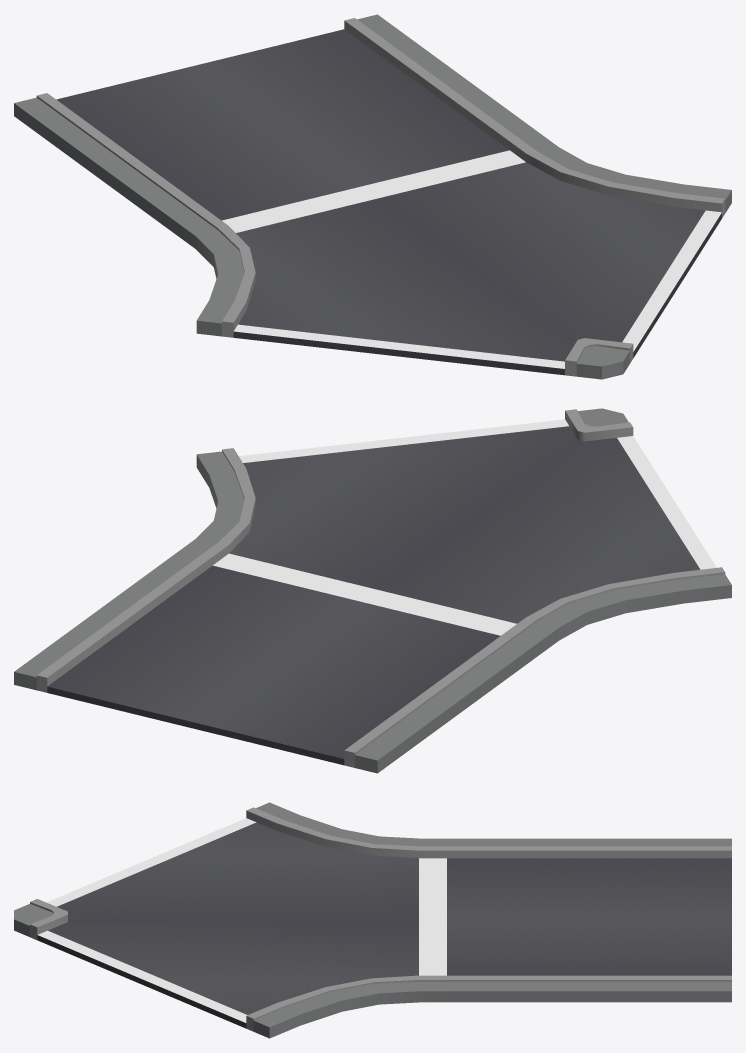
The model's file is Road11_Y_Splitter_45.obj.
3 renders of one model, top to bottom at view 1: azimuth 30°, elevation 25°; view 2: azimuth 150°, elevation 25°; view 3: azimuth 270°, elevation 25°, orthographic. The views are drawn at different scales.
Visible parts, largest first — view 1: Road11_Y_Splitter_45_Road10Material; view 2: Road11_Y_Splitter_45_Road10Material; view 3: Road11_Y_Splitter_45_Road10Material.
Part boxes in pixels (box(x1,y1,x2,y2)): Road11_Y_Splitter_45_Road10Material: box(14, 14, 731, 379); Road11_Y_Splitter_45_Road10Material: box(14, 408, 731, 773); Road11_Y_Splitter_45_Road10Material: box(14, 802, 731, 1038).
Bounding box in the file's own units: 17.67 × 0.4753 × 23.83.
